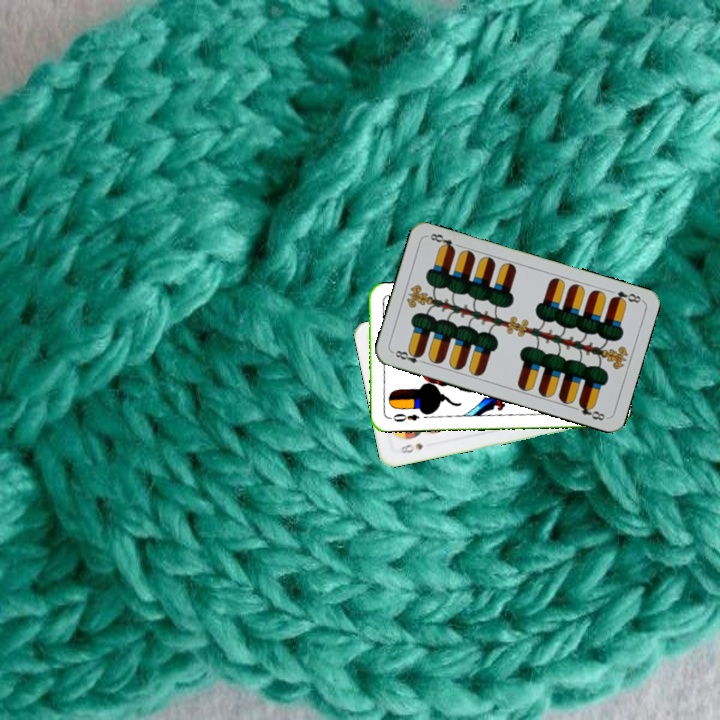E8: (389, 346, 429, 366), (606, 287, 644, 306)
EO: (389, 410, 422, 424)
S8: (396, 439, 425, 456)
